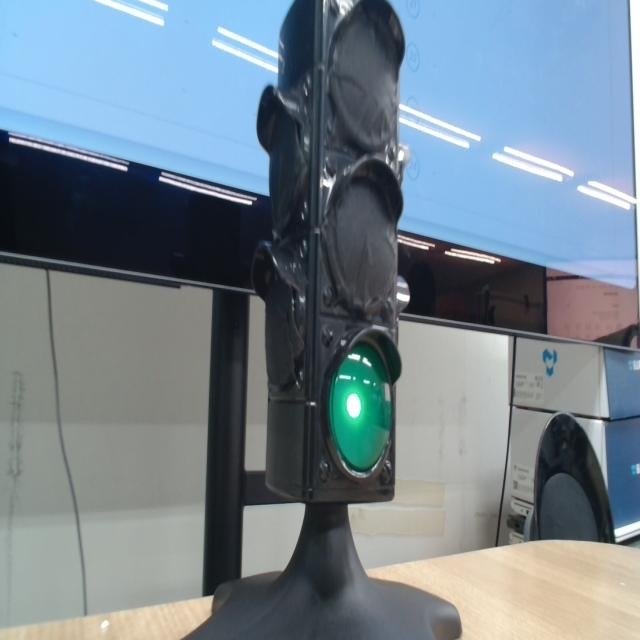green_light: (329, 343, 391, 472)
